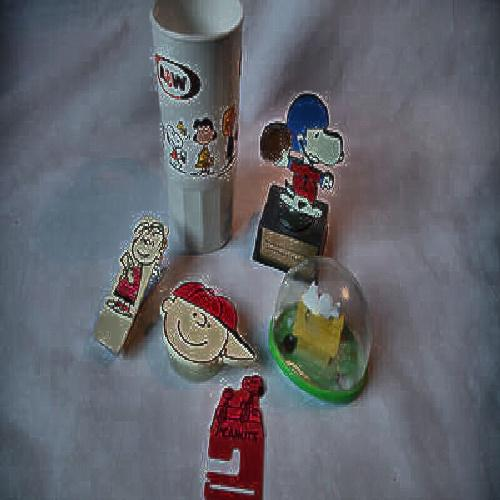stapler: (251, 112, 353, 294)
